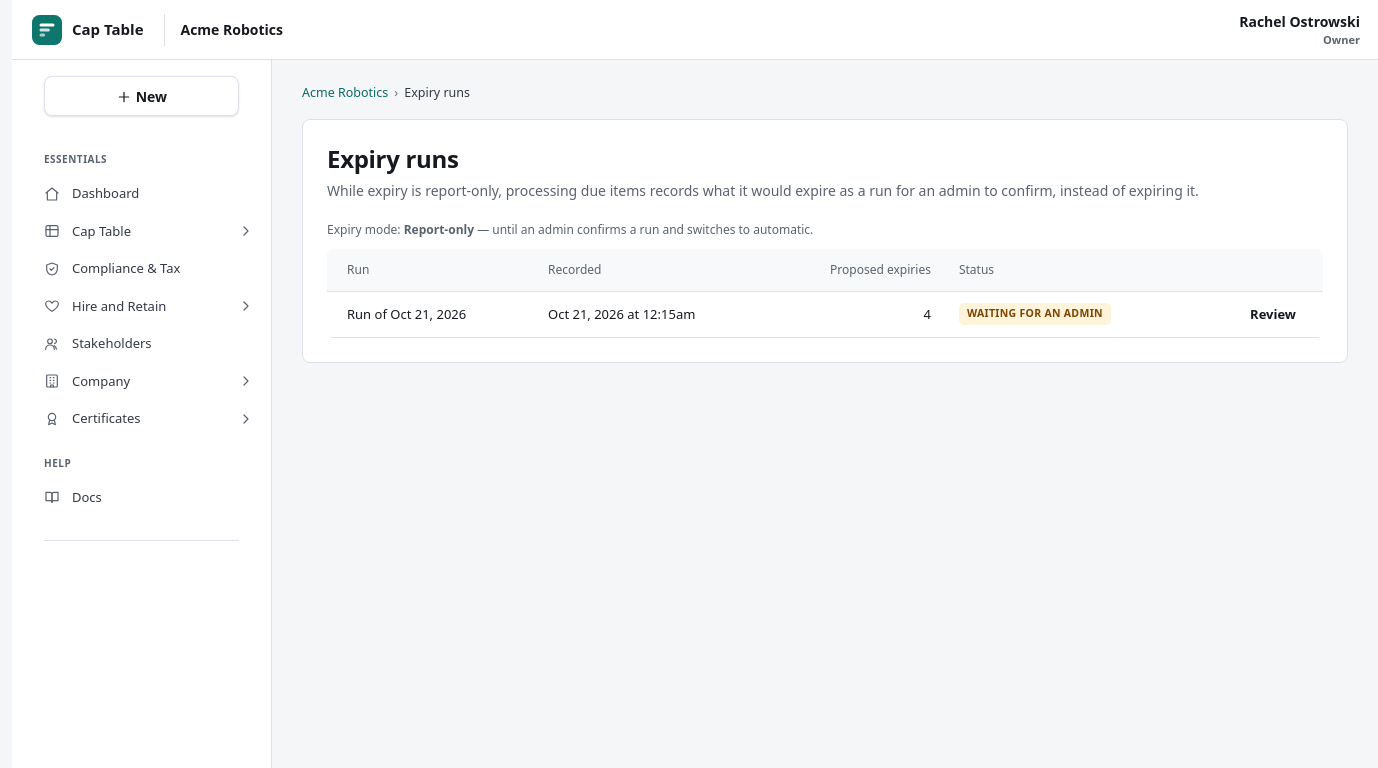
Test case: expiry runs: reading them › says when a run can't be read, with Try again, and offers nothing until it is
Click the button with aria-label "Review the run of Oct 21, 2026": point(1273, 314) [1237,298,1309,330]
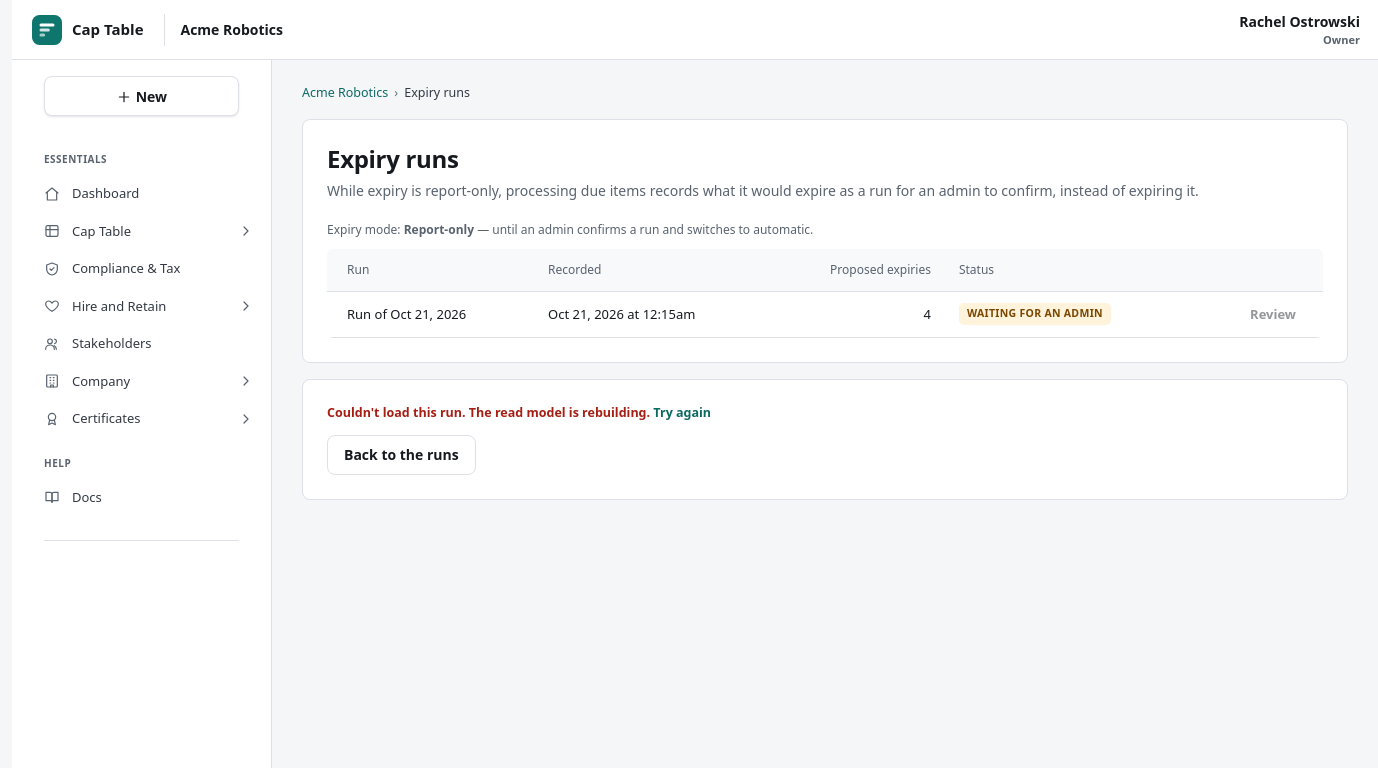
Expected: the button "Check what confirming does" is not shown
Result: the text "Couldn't load this run. The read model is rebuilding. Try again" is shown at [327,404,711,423]
Click the button "Try again": point(682, 413) [653,404,711,423]
(page scrolled)
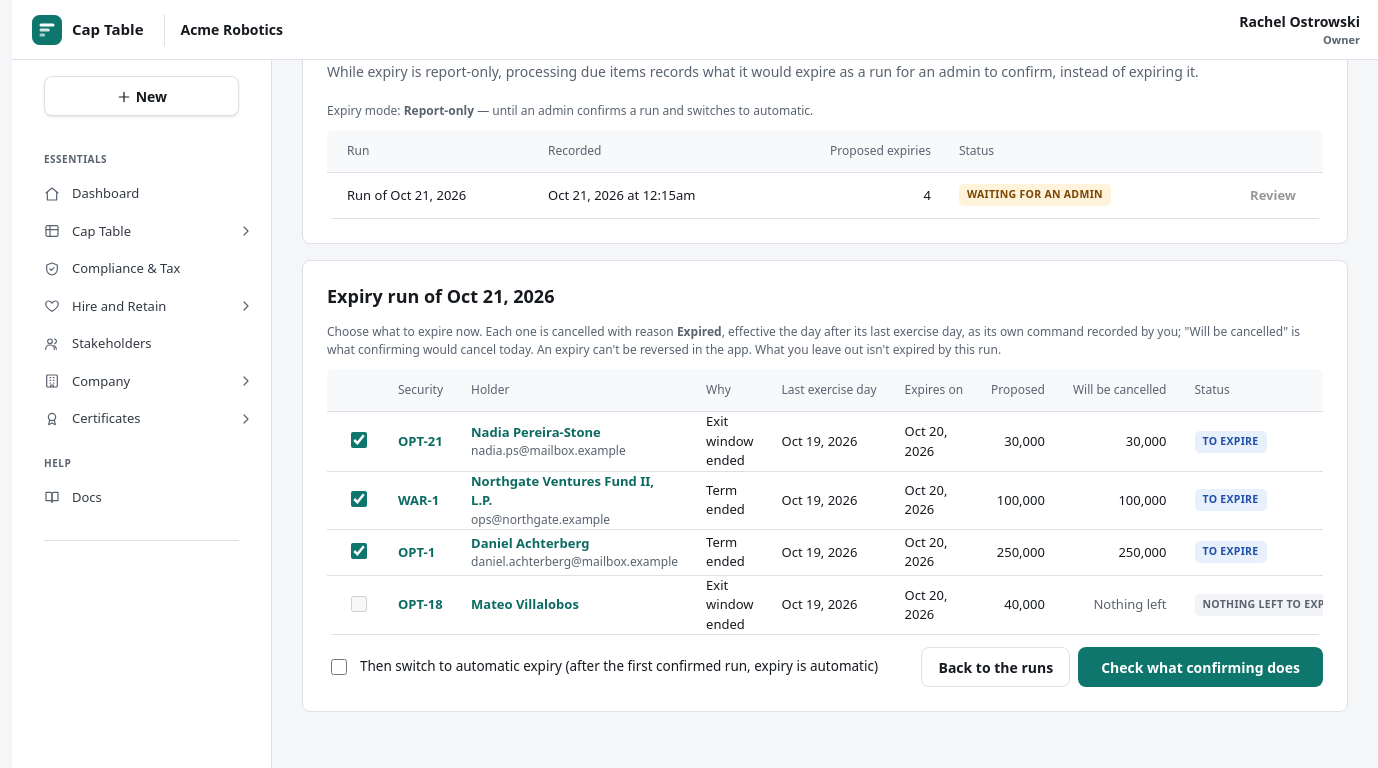
Result: the button "Check what confirming does" is shown at [1078,647,1323,687]
